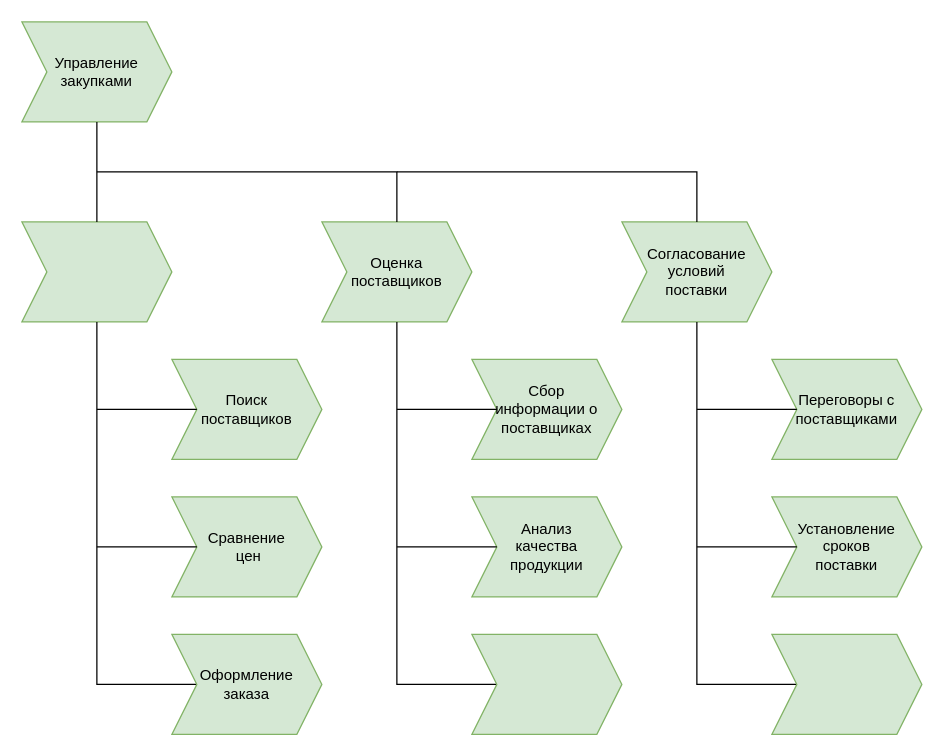
This 944x756 diagram has some shape labels left out. Here are the shapes that lost their labels. From the top down, the box of each, then its label:
(21, 221, 172, 322): Закупка материалов
(471, 633, 622, 734): Оценка надежности поставщиков
(771, 633, 922, 734): Согласование цен и условий поставки
